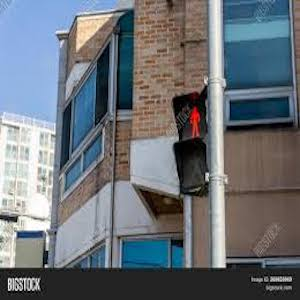red: (184, 104, 206, 138)
